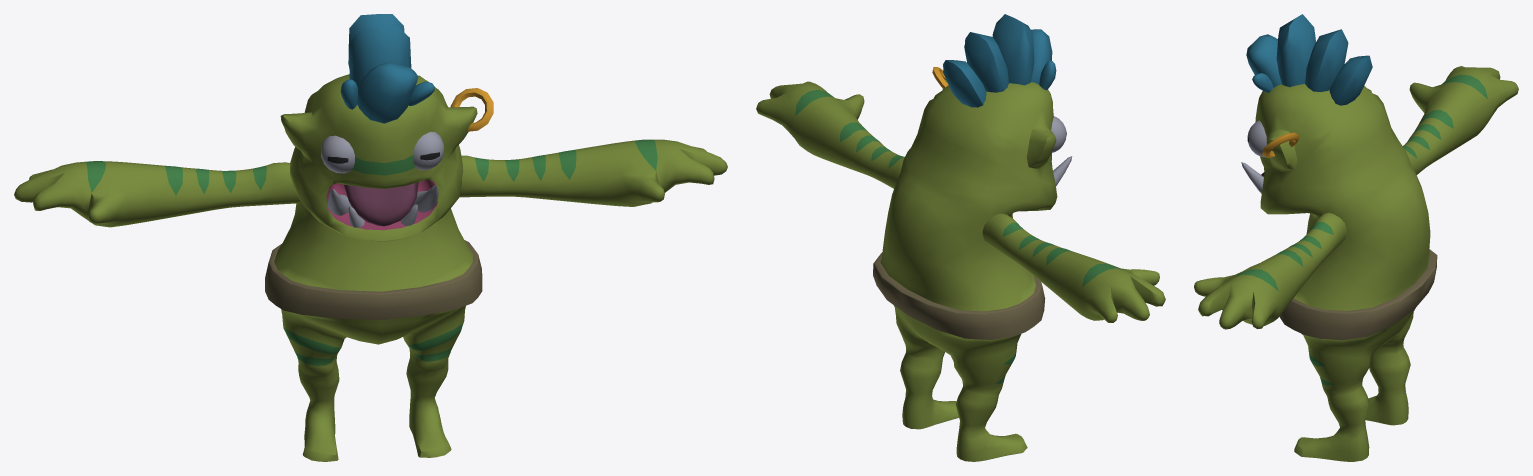
The model's file is Orc.fbx.
The picture shows the model from 3 angles, left to right: view 1: azimuth 30°, elevation 25°; view 2: azimuth 150°, elevation 25°; view 3: azimuth 270°, elevation 25°; orthographic projection. The views are drawn at different scales.
Parts seen in each view (by area): view 1: Orc; view 2: Orc; view 3: Orc.
Part boxes in pixels (x1,y1,x2,y2): Orc: (14,14,727,461); Orc: (756,14,1165,461); Orc: (1194,14,1518,461).
Size of the model in its own units: 364 by 274 by 199.
